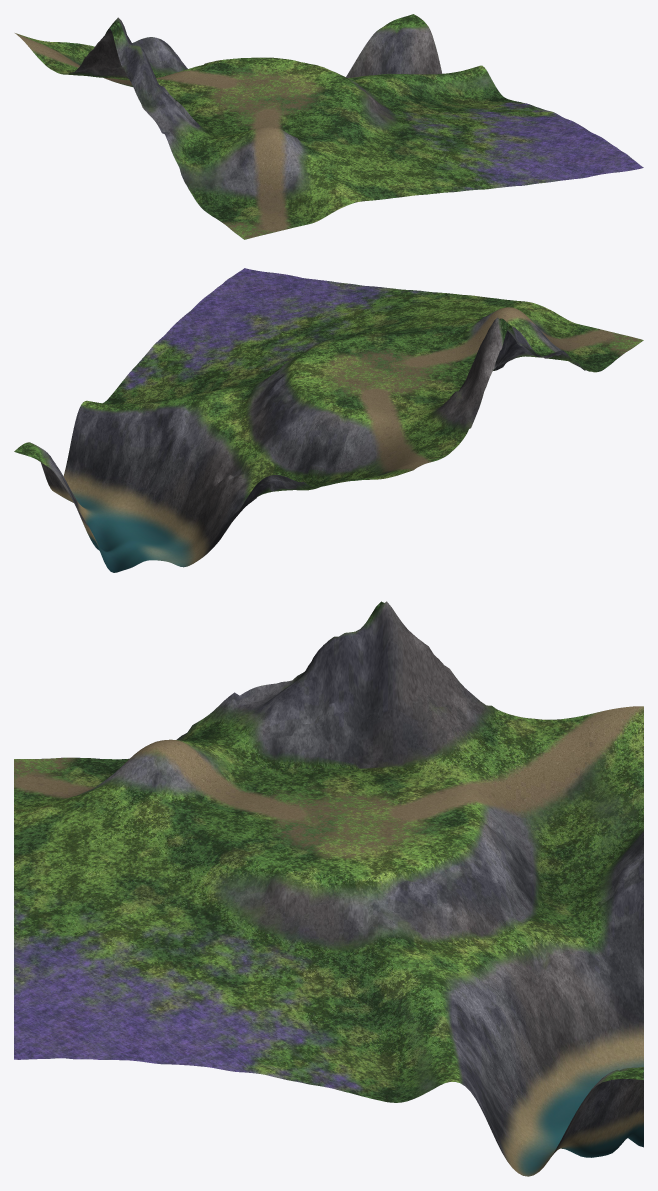
3 renders of one model, top to bottom at view 1: azimuth 30°, elevation 25°; view 2: azimuth 150°, elevation 25°; view 3: azimuth 270°, elevation 25°, orthographic. The views are drawn at different scales.
Parts seen in each view (by area): view 1: t064_064; view 2: t064_064; view 3: t064_064.
Boxes of the visible parts, x1,y1,x2,y2 form: t064_064: [15, 14, 643, 239]; t064_064: [14, 268, 643, 572]; t064_064: [14, 601, 643, 1176].
Size of the model in its own units: 64 by 39.41 by 64.
Materials: 1 (1 with a texture image).
